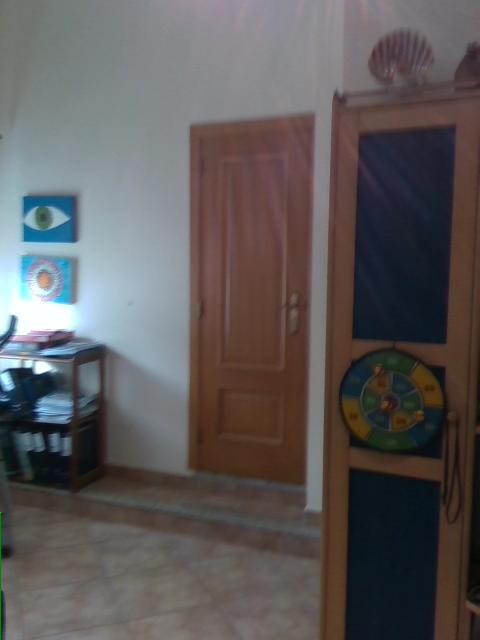door: (186, 110, 312, 487)
